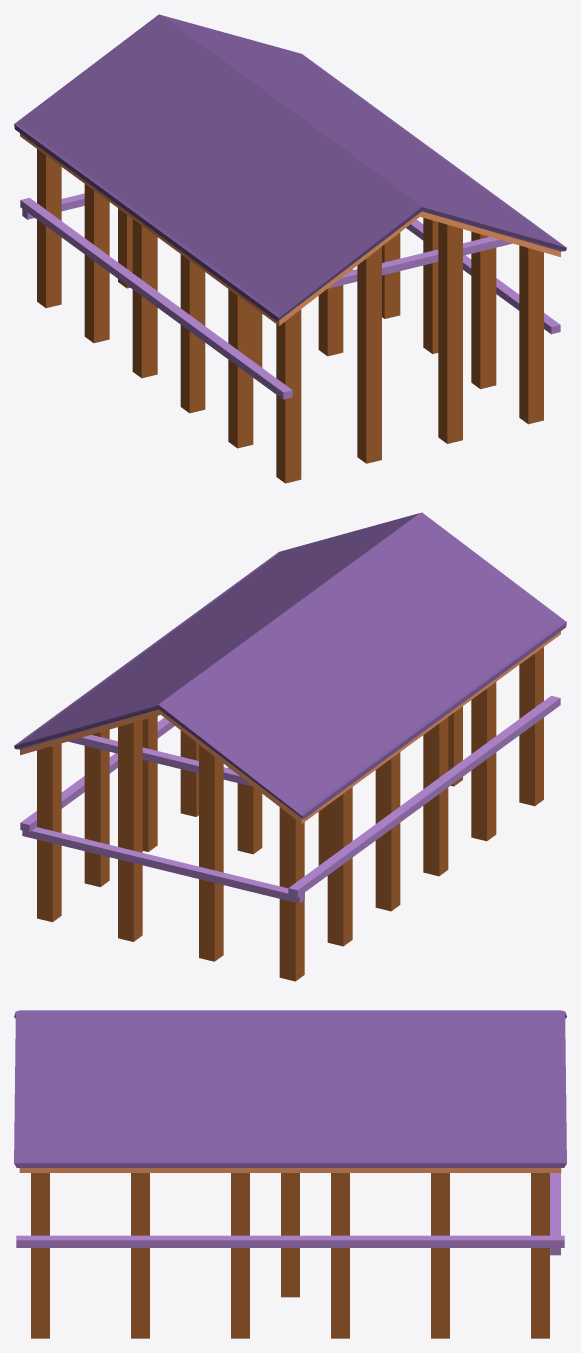
Rendered from Storage.fbx.
3 views of the same model, one above another, from view 1: azimuth 30°, elevation 25°; view 2: azimuth 150°, elevation 25°; view 3: azimuth 270°, elevation 25° (orthographic). The views are drawn at different scales.
Visible parts, largest first — view 1: Storage; view 2: Storage; view 3: Storage.
Part boxes in pixels (<box>): Storage: <box>14,14,566,483</box>; Storage: <box>14,512,566,981</box>; Storage: <box>14,1010,566,1338</box>.
Bounding box in the file's own units: 344 × 286 × 547.
